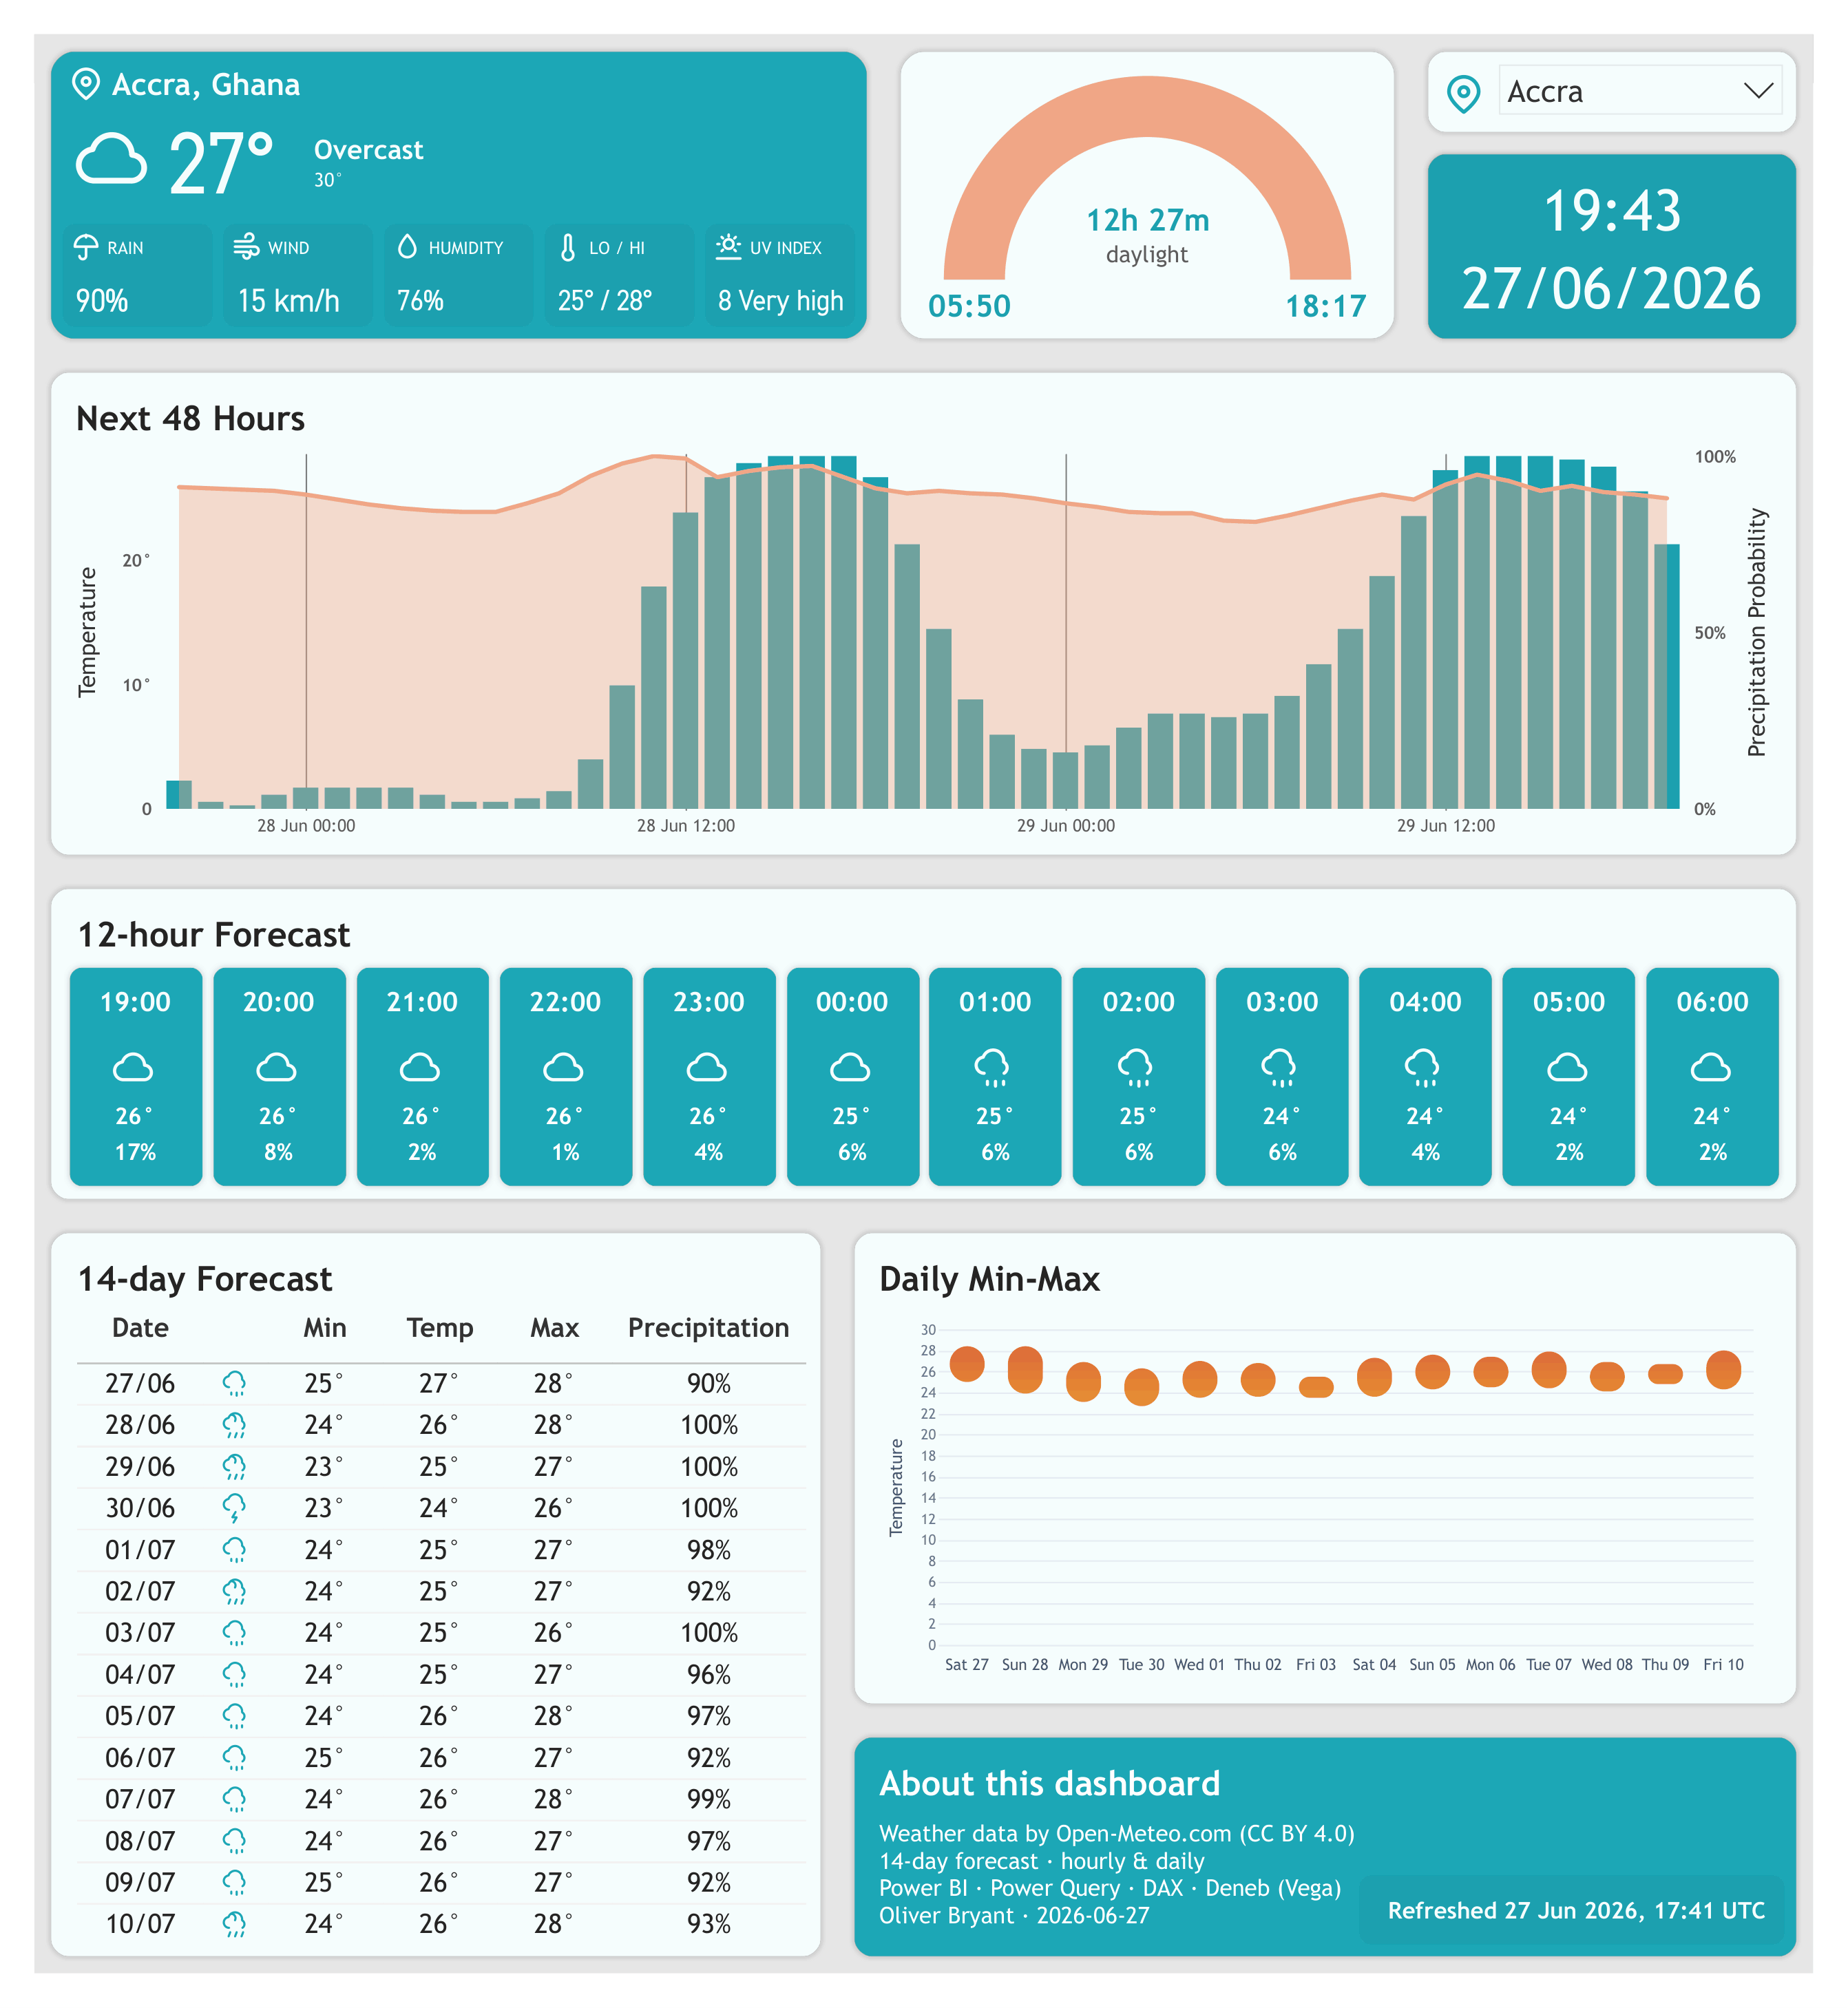

What the dashboard file says about the page in this screenshot:
{"tool":"powerbi","page":{"name":"Weather","canvas":[1240,1352],"ordinal":0},"visuals":[{"type":"shape","box":[8,592,1224,224],"z":0},{"type":"shape","box":[421.5,646.9,100,160],"z":1000},{"type":"shape","box":[221.5,646.9,100,160],"z":2000},{"type":"shape","box":[619.8,646.9,100,160],"z":3000},{"type":"shape","box":[321.5,646.9,100,160],"z":4000},{"type":"shape","box":[1119.8,646.9,100,160],"z":5000},{"type":"shape","box":[8,8,576,208],"z":6000},{"type":"shape","box":[16,128,112,80],"z":7000},{"type":"shape","box":[600,8,352,208],"z":8000},{"type":"shape","box":[240,128,112,80],"z":9000},{"type":"shape","box":[128,128,112,80],"z":10000},{"type":"shape","box":[968,80,264,136],"z":11000},{"type":"shape","box":[352,128,112,80],"z":12000},{"type":"shape","box":[8,232,1224,344],"z":13000},{"type":"image","box":[24,56,64,64],"z":14000},{"type":"image","box":[22.6,21.3,26.4,26.7],"z":15000},{"type":"image","box":[24,136,24,24],"z":16000},{"type":"image","box":[136,136,24,24],"z":17000},{"type":"image","box":[248,136,24,24],"z":18000},{"type":"image","box":[360,136,24,24],"z":19000},{"type":"shape","box":[968,8,264,64],"z":20000},{"type":"shape","box":[819.8,647.5,100,160],"z":21000},{"type":"shape","box":[21,647,100,160],"z":22000},{"type":"shape","box":[121.3,647.3,100,160],"z":23000},{"type":"shape","box":[521.5,646.9,100,160],"z":24000},{"type":"shape","box":[719.8,646.9,100,160],"z":25000},{"type":"shape","box":[568,1184,664,160],"z":26000},{"type":"shape","box":[919.8,646.9,100,160],"z":27000},{"type":"shape","box":[1019.8,646.9,100,160],"z":28000},{"type":"shape","box":[920,1280,304,56],"z":29000},{"type":"shape","box":[568,832,664,336],"z":30000},{"type":"cardVisual","fields":{"Data":["CityInfo._CityRegion_Selected"]},"box":[49,12.6,384.1,40],"z":31000},{"type":"cardVisual","fields":{"Data":["WeatherCurrent._Current_Time","WeatherCurrent._Current_Date"]},"box":[976,88,248,120],"z":32000},{"type":"cardVisual","fields":{"Data":["WeatherCurrent._Current_Temperature"]},"box":[88,56,88,64],"z":33000},{"type":"cardVisual","fields":{"Data":["WeatherCurrent._Current_PrecipitationProbability_Max"]},"box":[24,168,96,32],"z":34000},{"type":"cardVisual","fields":{"Data":["WeatherCurrent._Current_Humidity"]},"box":[248,168,96,32],"z":35000},{"type":"cardVisual","fields":{"Data":["WeatherCurrent._Current_WindSpeed"]},"box":[136,168,96,32],"z":36000},{"type":"cardVisual","fields":{"Data":["WeatherCurrent._Current_Temperature_MinMax_Text"]},"box":[360,168,96,32],"z":37000},{"type":"cardVisual","fields":{"Data":["Icons._Text_Rain"]},"box":[40,128,80,40],"z":38000},{"type":"cardVisual","fields":{"Data":["Icons._Text_Wind"]},"box":[152,128,80,40],"z":39000},{"type":"cardVisual","fields":{"Data":["Icons._Text_Humidity"]},"box":[264,128,80,40],"z":40000},{"type":"cardVisual","fields":{"Data":["Icons._Text_LoHi"]},"box":[376,128,80,40],"z":41000},{"type":"slicer","fields":{"Values":["CityInfo.city"]},"box":[1016,16,208,40],"z":42000},{"type":"cardVisual","fields":{"Data":["WeatherCurrent._Current_Temperature_Apparent"]},"box":[184,80,272,40],"z":43000},{"type":"cardVisual","fields":{"Data":["CityInfo._Current_Description"]},"box":[184,56,272,48],"z":44000},{"type":"lineStackedColumnComboChart","title":"Next 48 Hours","fields":{"Y2":["WeatherHourly._Hourly_Temperature"],"Y":["WeatherHourly._Hourly_PrecipitationProbability_Max"],"Category":["WeatherHourly.hourly.time"]},"box":[24,280,1192,288],"z":45000},{"type":"image","box":[980.6,25.6,31.7,32.2],"z":46000},{"type":"shape","box":[8,832,544,512],"z":47000},{"type":"tableEx","title":"14-day Forecast","fields":{"Values":["WeatherDaily.daily.dateshort","WeatherDaily.daily.date","Icons._Icon_Daily_Dark","WeatherDaily._Daily_Temperature_Min","WeatherDaily._Daily_Temperature","WeatherDaily._Daily_Temperature_Max","WeatherDaily._Daily_PrecipitationProbability_Max"]},"box":[24,888,520,448],"z":48000},{"type":"pivotTable","title":"12-hour Forecast","fields":{"Values":["Icons._Icon_Hourly_Light","WeatherHourly._Hourly_Temperature","WeatherHourly._Hourly_PrecipitationProbability_Max"],"Columns":["WeatherHourly.hourly.datetimeshort"]},"box":[15,655,1212,152],"z":49000},{"type":"textbox","box":[24,608,256,40],"z":50000},{"type":"textbox","box":[24,248,256,40],"z":51000},{"type":"textbox","box":[24,848,256,40],"z":52000},{"type":"textbox","box":[584,848,256,40],"z":53000},{"type":"deneb7E15AEF80B9E4D4F8E12924291ECE89A","fields":{"dataset":["WeatherDaily.daily.date","WeatherDaily._Daily_Temperature_Min","WeatherDaily._Daily_Temperature_Max"]},"box":[584,888,632,272],"z":54000},{"type":"gauge","fields":{"MaxValue":["WeatherDaily._Today_Sunset_Formatted"],"MinValue":["WeatherDaily._Today_Sunrise_Formatted"],"Y":["WeatherCurrent._Current_Time_Formatted"]},"box":[608,24,336,152],"z":55000},{"type":"cardVisual","fields":{"Data":["WeatherDaily._Today_Sunrise"]},"box":[616,168,72,40],"z":56000},{"type":"cardVisual","fields":{"Data":["WeatherDaily._Today_Sunset"]},"box":[864,168,72,40],"z":57000},{"type":"cardVisual","title":"daylight","fields":{"Data":["WeatherCurrent._Daylight_Hours"]},"box":[696,112,160,56],"z":58000},{"type":"shape","box":[464,128,112,80],"z":59000},{"type":"image","box":[472,136,24,24],"z":60000},{"type":"cardVisual","fields":{"Data":["CityInfo._Daily_UV_Category"]},"box":[472,160,104,48],"z":61000},{"type":"cardVisual","fields":{"Data":["Icons._Text_Visibility"]},"box":[488,128,80,40],"z":62000},{"type":"textbox","box":[584,1200,256,40],"z":63000},{"type":"textbox","box":[584,1240,632,88],"z":64000},{"type":"cardVisual","fields":{"Data":["CityInfo._Last_Refresh"]},"box":[928,1288,288,40],"z":65000}]}

Visuals, with their boxes on the page's 1240x1352 design canvas (x1, y1, x2, y2). These are canvas units, not pixel positions in the 1848x2008 screenshot, which may show the page scaled, cropped or inside an application window:
shape: <box>8,592,1232,816</box>
shape: <box>422,647,522,807</box>
shape: <box>222,647,322,807</box>
shape: <box>620,647,720,807</box>
shape: <box>322,647,422,807</box>
shape: <box>1120,647,1220,807</box>
shape: <box>8,8,584,216</box>
shape: <box>16,128,128,208</box>
shape: <box>600,8,952,216</box>
shape: <box>240,128,352,208</box>
shape: <box>128,128,240,208</box>
shape: <box>968,80,1232,216</box>
shape: <box>352,128,464,208</box>
shape: <box>8,232,1232,576</box>
image: <box>24,56,88,120</box>
image: <box>23,21,49,48</box>
image: <box>24,136,48,160</box>
image: <box>136,136,160,160</box>
image: <box>248,136,272,160</box>
image: <box>360,136,384,160</box>
shape: <box>968,8,1232,72</box>
shape: <box>820,648,920,808</box>
shape: <box>21,647,121,807</box>
shape: <box>121,647,221,807</box>
shape: <box>522,647,622,807</box>
shape: <box>720,647,820,807</box>
shape: <box>568,1184,1232,1344</box>
shape: <box>920,647,1020,807</box>
shape: <box>1020,647,1120,807</box>
shape: <box>920,1280,1224,1336</box>
shape: <box>568,832,1232,1168</box>
cardVisual - CityInfo._CityRegion_Selected: <box>49,13,433,53</box>
cardVisual - WeatherCurrent._Current_Time x WeatherCurrent._Current_Date: <box>976,88,1224,208</box>
cardVisual - WeatherCurrent._Current_Temperature: <box>88,56,176,120</box>
cardVisual - WeatherCurrent._Current_PrecipitationProbability_Max: <box>24,168,120,200</box>
cardVisual - WeatherCurrent._Current_Humidity: <box>248,168,344,200</box>
cardVisual - WeatherCurrent._Current_WindSpeed: <box>136,168,232,200</box>
cardVisual - WeatherCurrent._Current_Temperature_MinMax_Text: <box>360,168,456,200</box>
cardVisual - Icons._Text_Rain: <box>40,128,120,168</box>
cardVisual - Icons._Text_Wind: <box>152,128,232,168</box>
cardVisual - Icons._Text_Humidity: <box>264,128,344,168</box>
cardVisual - Icons._Text_LoHi: <box>376,128,456,168</box>
slicer - CityInfo.city: <box>1016,16,1224,56</box>
cardVisual - WeatherCurrent._Current_Temperature_Apparent: <box>184,80,456,120</box>
cardVisual - CityInfo._Current_Description: <box>184,56,456,104</box>
"Next 48 Hours" lineStackedColumnComboChart: <box>24,280,1216,568</box>
image: <box>981,26,1012,58</box>
shape: <box>8,832,552,1344</box>
"14-day Forecast" tableEx: <box>24,888,544,1336</box>
"12-hour Forecast" pivotTable: <box>15,655,1227,807</box>
textbox: <box>24,608,280,648</box>
textbox: <box>24,248,280,288</box>
textbox: <box>24,848,280,888</box>
textbox: <box>584,848,840,888</box>
deneb7E15AEF80B9E4D4F8E12924291ECE89A - WeatherDaily.daily.date x WeatherDaily._Daily_Temperature_Min: <box>584,888,1216,1160</box>
gauge - WeatherDaily._Today_Sunset_Formatted x WeatherDaily._Today_Sunrise_Formatted: <box>608,24,944,176</box>
cardVisual - WeatherDaily._Today_Sunrise: <box>616,168,688,208</box>
cardVisual - WeatherDaily._Today_Sunset: <box>864,168,936,208</box>
"daylight" cardVisual: <box>696,112,856,168</box>
shape: <box>464,128,576,208</box>
image: <box>472,136,496,160</box>
cardVisual - CityInfo._Daily_UV_Category: <box>472,160,576,208</box>
cardVisual - Icons._Text_Visibility: <box>488,128,568,168</box>
textbox: <box>584,1200,840,1240</box>
textbox: <box>584,1240,1216,1328</box>
cardVisual - CityInfo._Last_Refresh: <box>928,1288,1216,1328</box>
